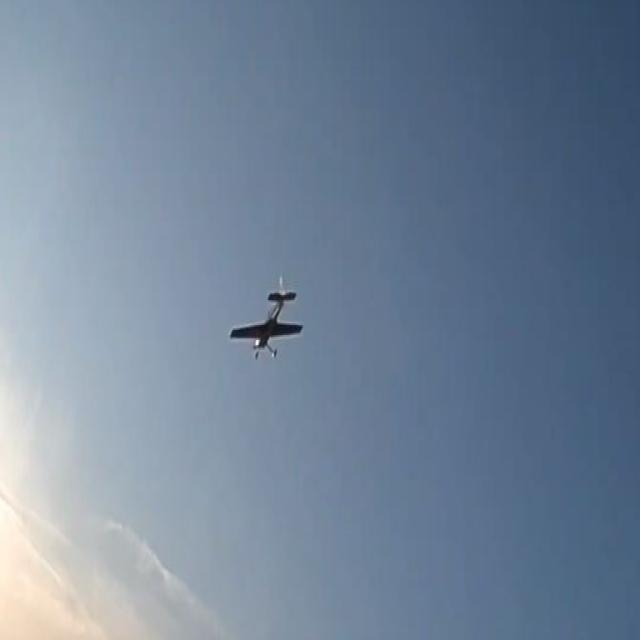iha: (258, 304, 263, 328)
